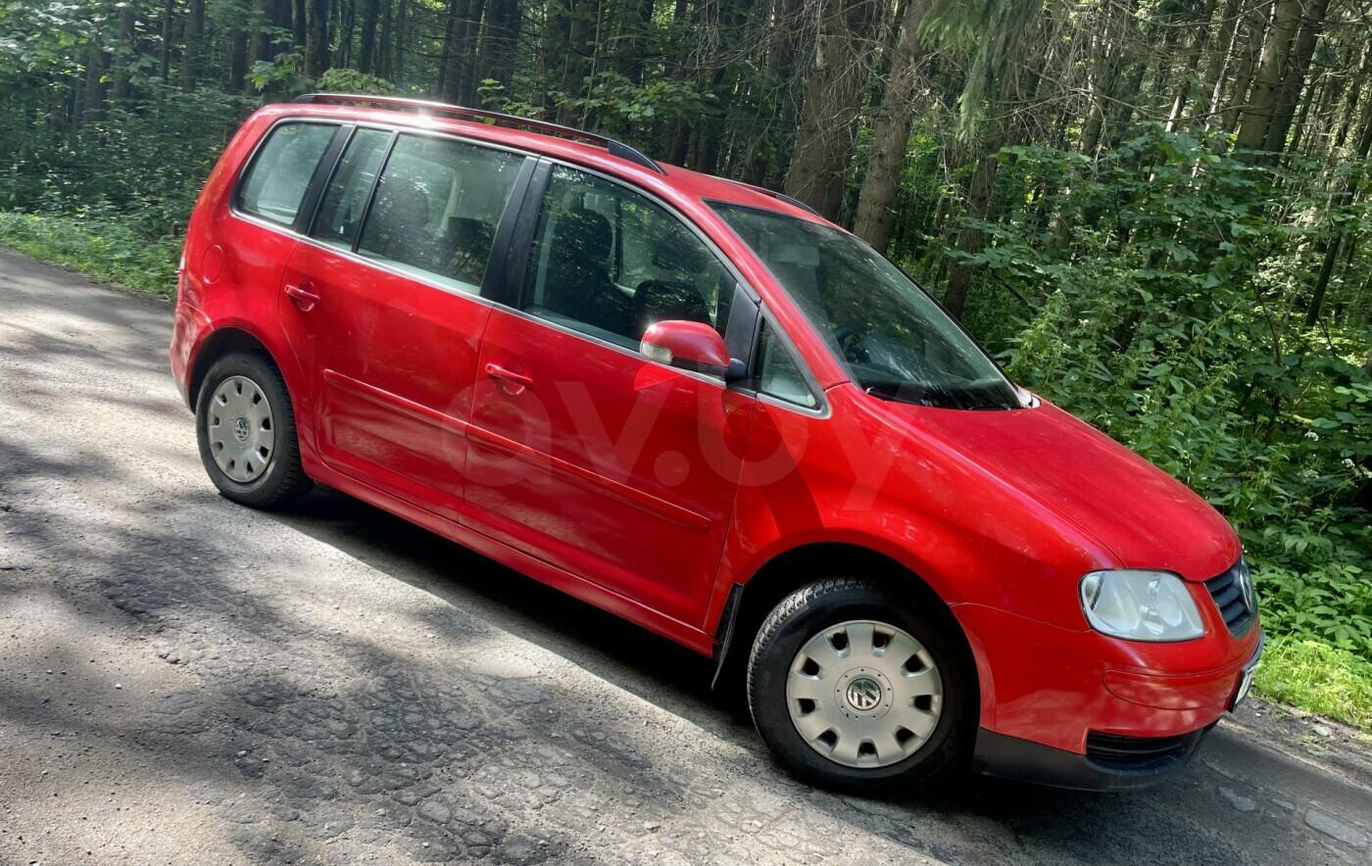Touran_2003-2006: (169, 100, 1267, 797)
